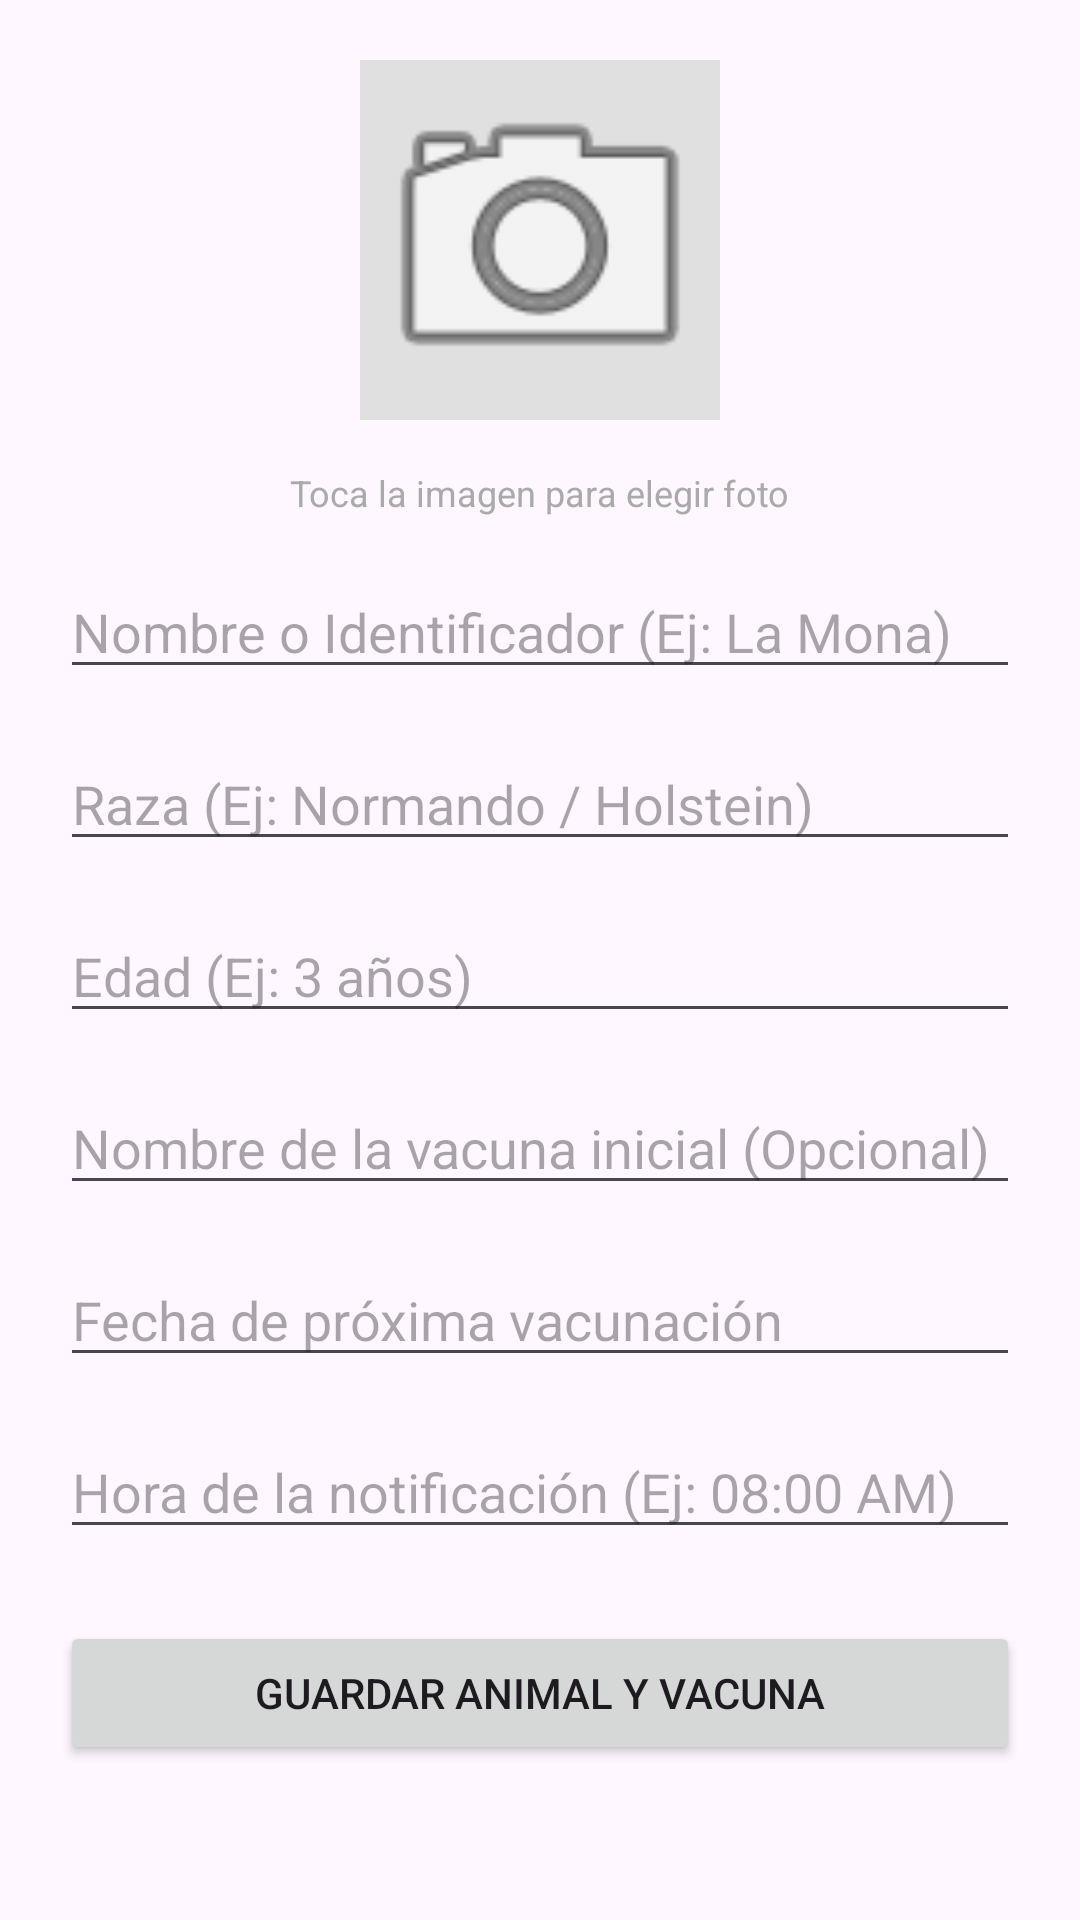

Where icons sit on this 1080x1920 app screen, as region(x1, y1, x2, y2):
camera: region(360, 60, 720, 420)
